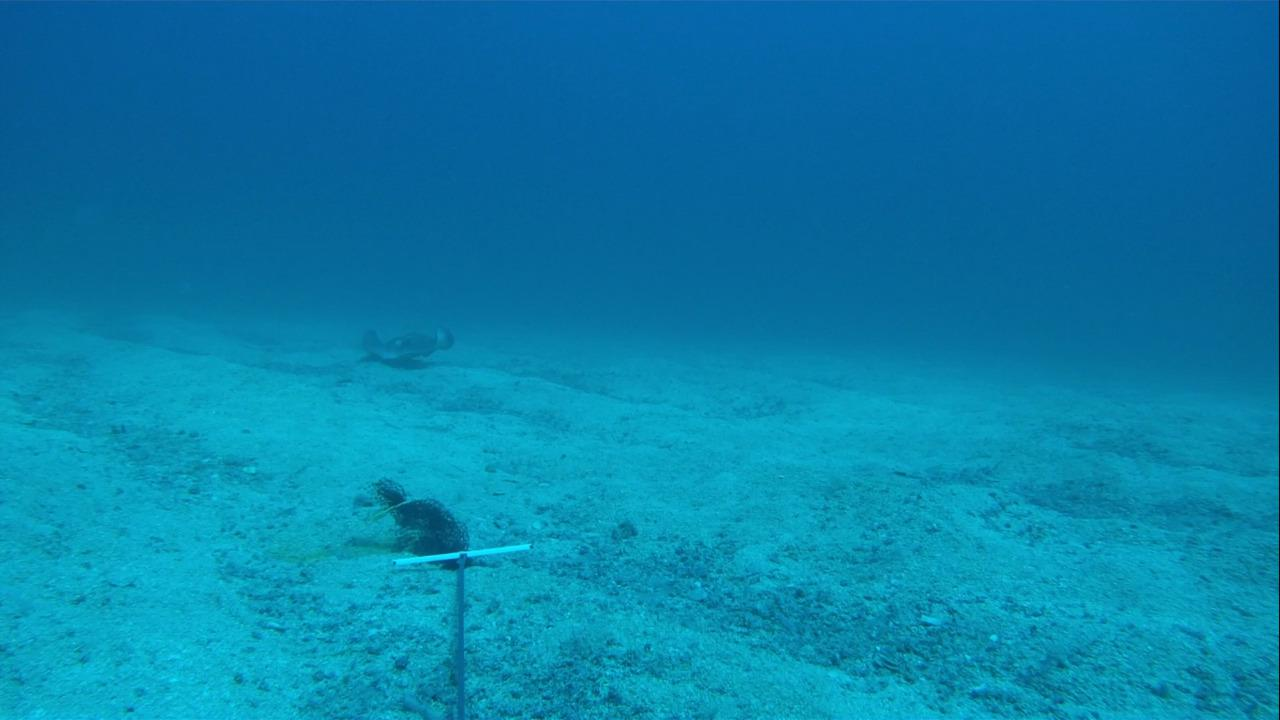myliobatis: (331, 323, 458, 372)
